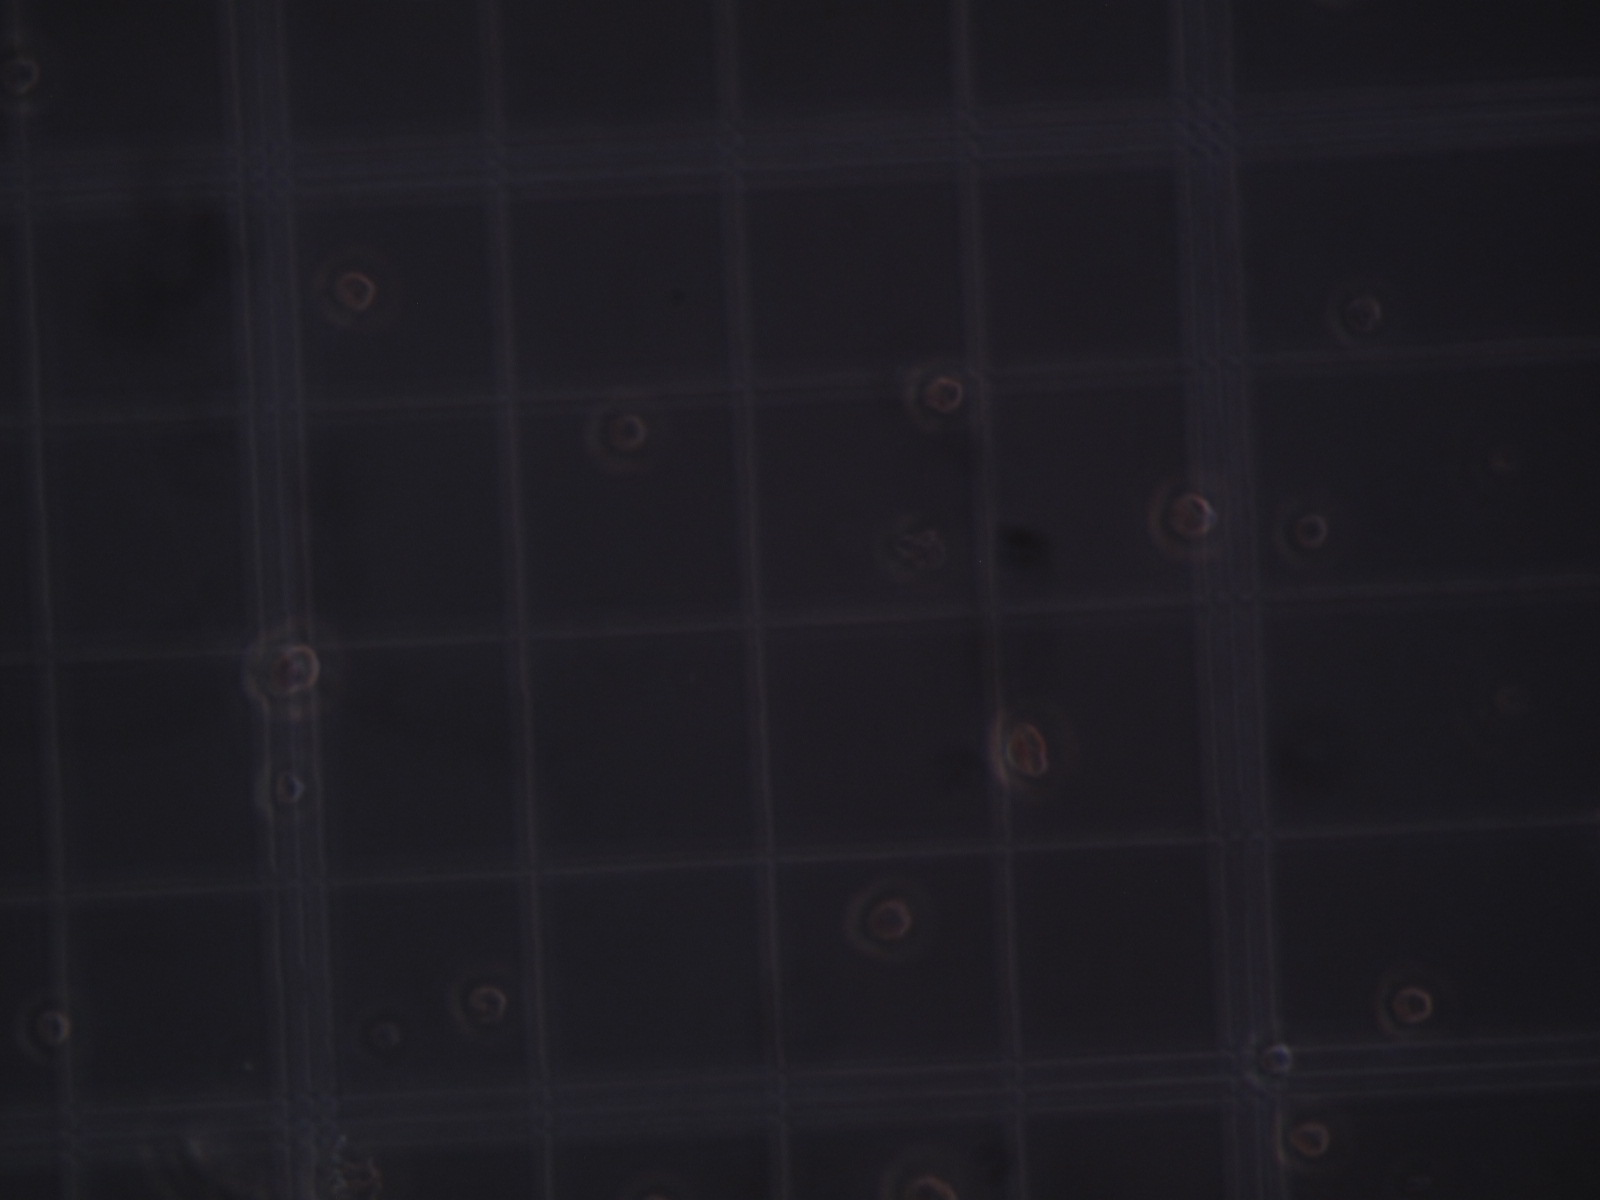hemo: (239, 621, 328, 721), (1141, 482, 1211, 562), (583, 389, 648, 473), (843, 886, 912, 961), (309, 253, 375, 329), (990, 710, 1049, 793), (900, 362, 964, 434), (447, 969, 508, 1044), (1271, 494, 1327, 563), (1380, 973, 1432, 1042), (1241, 1025, 1293, 1095), (1327, 285, 1381, 345), (1272, 1114, 1327, 1174), (253, 764, 306, 824)
